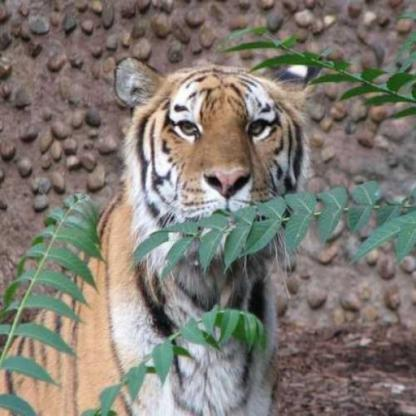Tiger: (11, 56, 321, 415)
